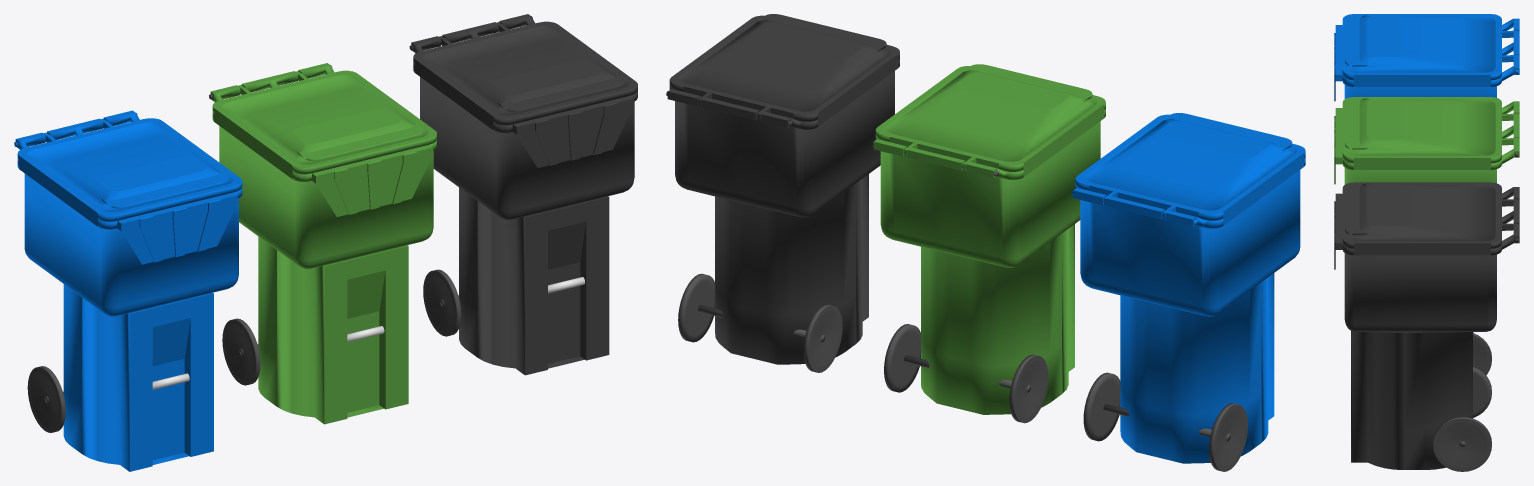
Rendered from bins.glb.
3 views of the same model, side by side, from view 1: azimuth 30°, elevation 25°; view 2: azimuth 150°, elevation 25°; view 3: azimuth 270°, elevation 25° (orthographic). The views are drawn at different scales.
Parts seen in each view (by area): view 1: Blue Trash Cart, Black Trash Cart, Green Trash Cart, Black Lid, Green Lid, Blue Lid; view 2: Blue Trash Cart, Black Trash Cart, Green Trash Cart, Green Lid, Black Lid, Blue Lid; view 3: Black Trash Cart, Black Lid, Blue Lid, Green Lid, Green Trash Cart, Blue Trash Cart.
Part boxes in pixels (x1,y1,x2,y2): Blue Trash Cart: (14, 110, 242, 471); Black Trash Cart: (409, 14, 637, 375); Green Trash Cart: (209, 63, 436, 424); Black Lid: (413, 21, 637, 125); Green Lid: (212, 70, 436, 174); Blue Lid: (17, 118, 242, 221); Blue Trash Cart: (1071, 157, 1305, 471); Black Trash Cart: (666, 59, 899, 372); Green Trash Cart: (872, 109, 1105, 423); Green Lid: (875, 64, 1105, 171); Black Lid: (669, 14, 899, 121); Blue Lid: (1075, 113, 1305, 220); Black Trash Cart: (1334, 187, 1519, 471); Black Lid: (1342, 182, 1519, 248); Blue Lid: (1342, 14, 1519, 80); Green Lid: (1342, 97, 1519, 163); Green Trash Cart: (1334, 101, 1519, 375); Blue Trash Cart: (1334, 18, 1519, 101).
Size of the model in its own units: 9.74 by 4.74 by 3.33.
